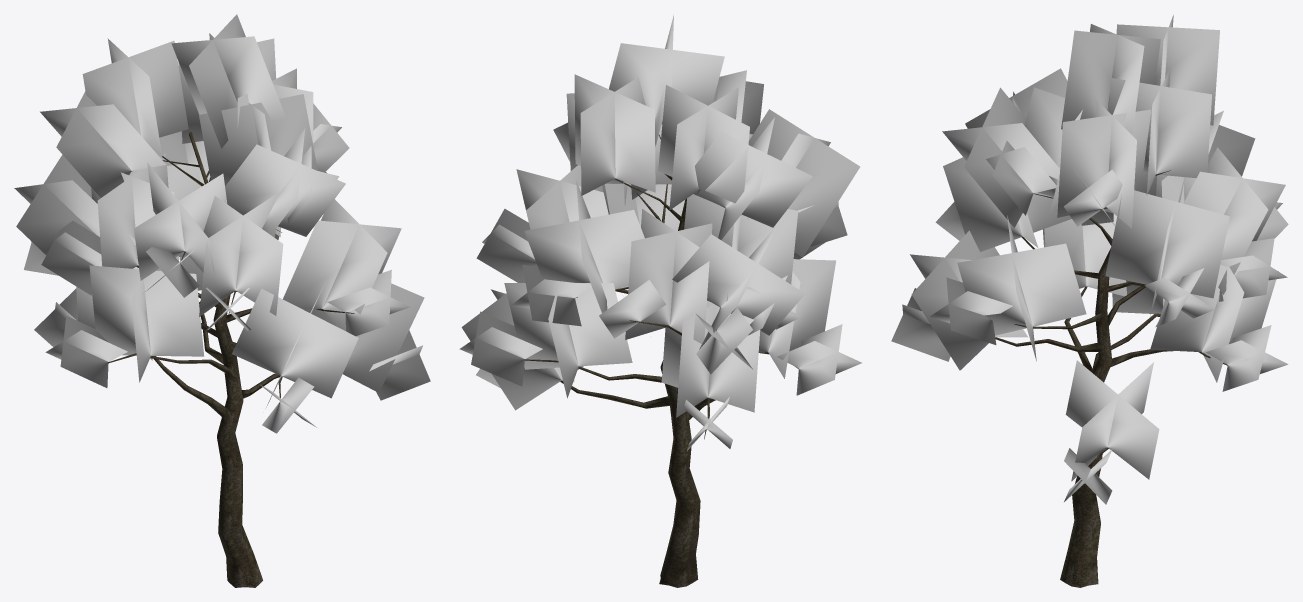
Rendered from TreeWaxCherry-red1-mobile.fbx.
3 renders of one model, left to right at view 1: azimuth 30°, elevation 25°; view 2: azimuth 150°, elevation 25°; view 3: azimuth 270°, elevation 25°, orthographic. The views are drawn at different scales.
Parts seen in each view (by area): view 1: TreeWaxCherry-red1-mobile_LOD0; view 2: TreeWaxCherry-red1-mobile_LOD0; view 3: TreeWaxCherry-red1-mobile_LOD0.
Part boxes in pixels (bbox=[...]): TreeWaxCherry-red1-mobile_LOD0: bbox=[14, 14, 430, 587]; TreeWaxCherry-red1-mobile_LOD0: bbox=[459, 15, 861, 587]; TreeWaxCherry-red1-mobile_LOD0: bbox=[891, 15, 1288, 587].
Size of what is drawn, in the model's own units: 379 by 540 by 353.
